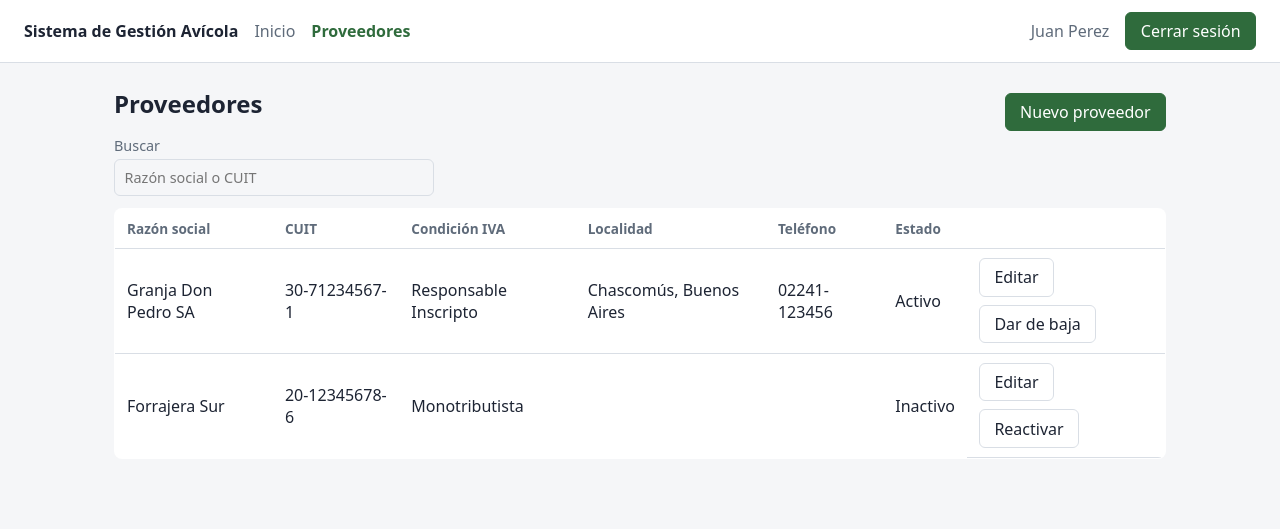
Test: SuppliersPage › deactivates and reactivates suppliers
Click the button "Dar de baja" at (1038, 324), box [979,304,1096,343]
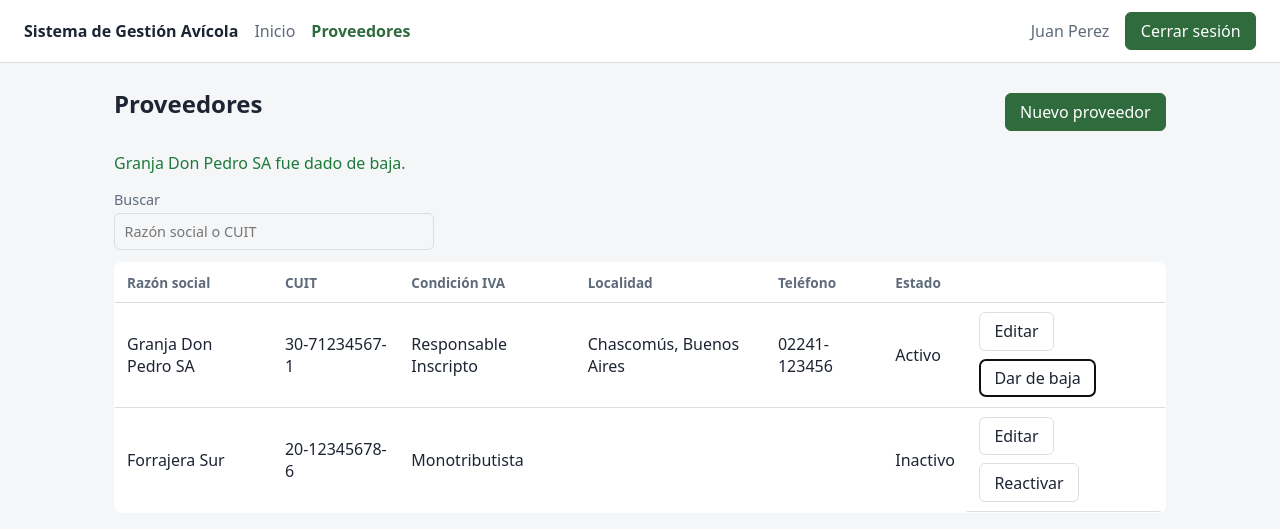
Click the button "Reactivar" at (1029, 483), box [979,464,1079,502]
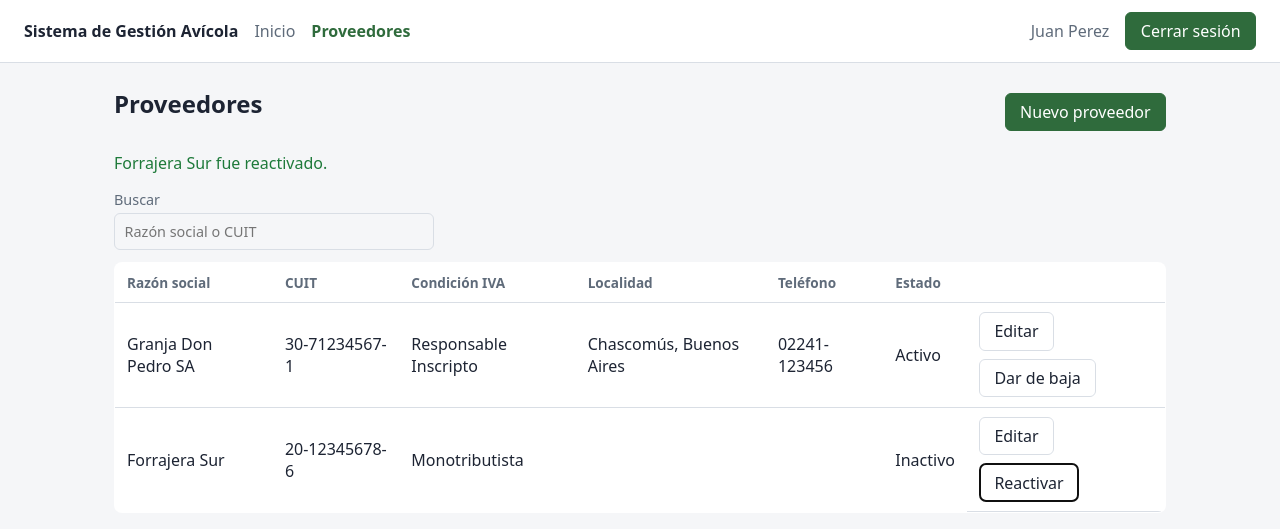
Check: the text "Forrajera Sur fue reactivado." is shown, box [114,152,327,174]
